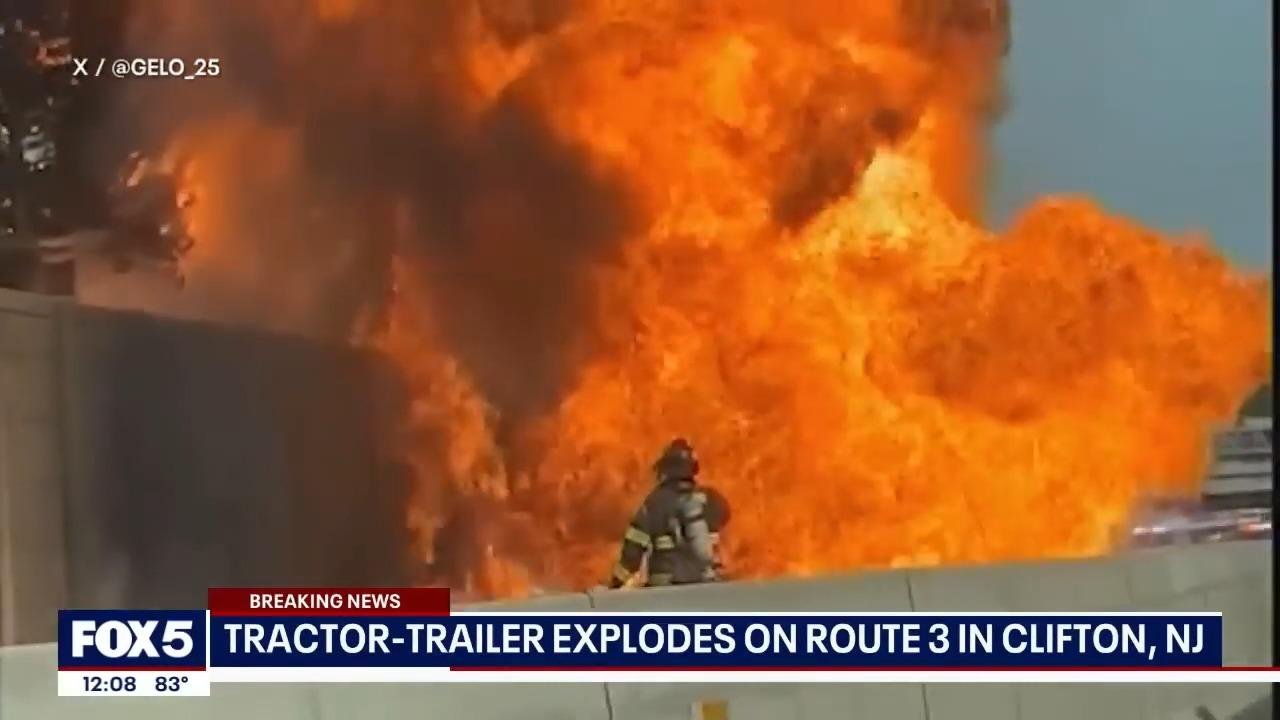fire: (257, 4, 941, 333), (763, 207, 1280, 566), (376, 183, 593, 574), (577, 254, 751, 427)
